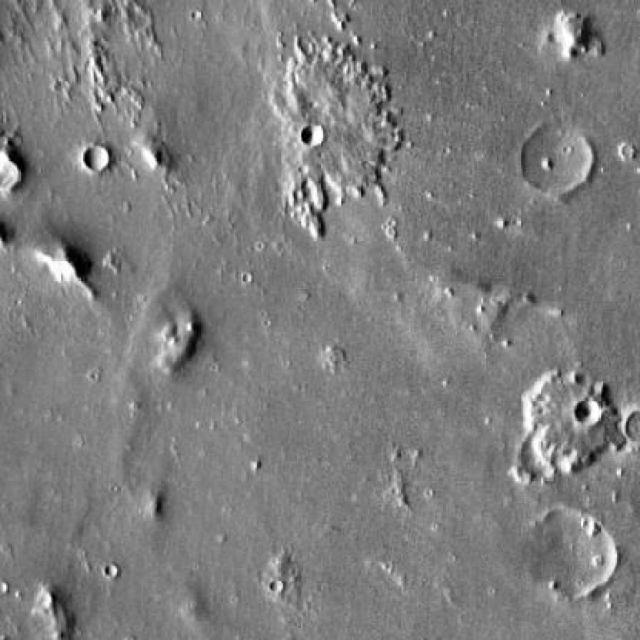crater: (536, 509, 626, 596), (524, 121, 596, 192), (574, 400, 601, 426), (0, 160, 23, 188), (84, 149, 104, 169), (303, 126, 322, 145)
